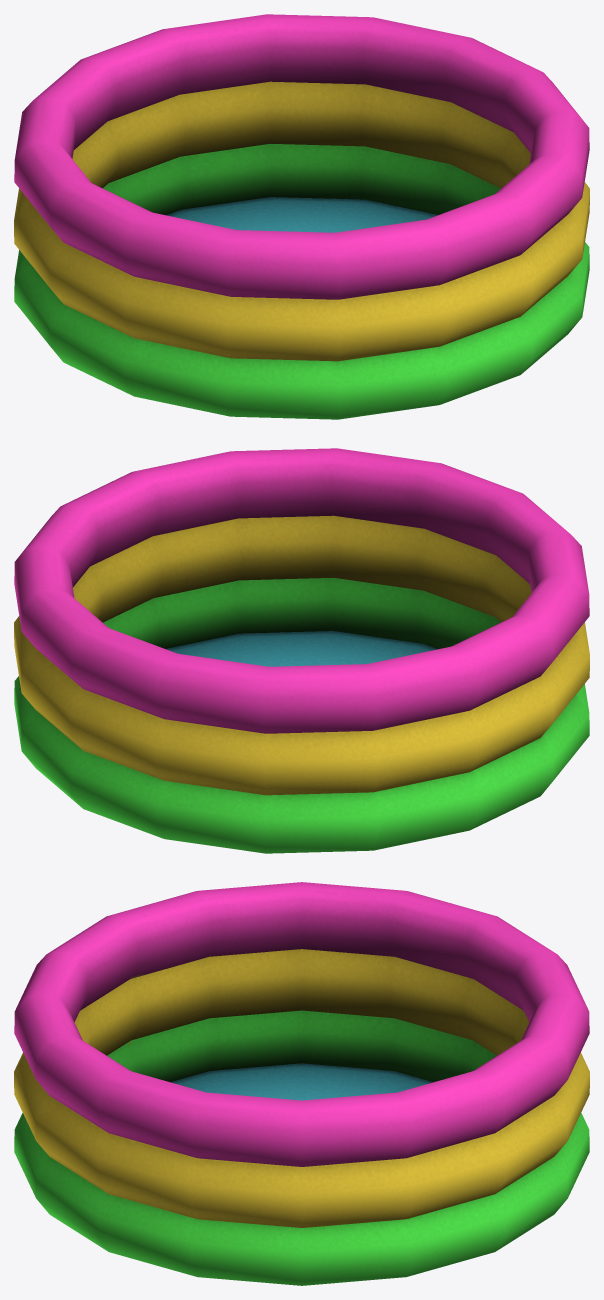
The model's file is PROP_059_Pool.fbx.
The picture shows the model from 3 angles, top to bottom: view 1: azimuth 30°, elevation 25°; view 2: azimuth 150°, elevation 25°; view 3: azimuth 270°, elevation 25°; orthographic projection.
Parts seen in each view (by area): view 1: Piscina; view 2: Piscina; view 3: Piscina.
Boxes of the visible parts, <box> form: Piscina: <box>14,14,589,419</box>; Piscina: <box>14,448,589,853</box>; Piscina: <box>14,882,589,1285</box>.
Size of the model in its own units: 2.11 by 0.7088 by 2.11.
Materials: 1 (1 with a texture image).
